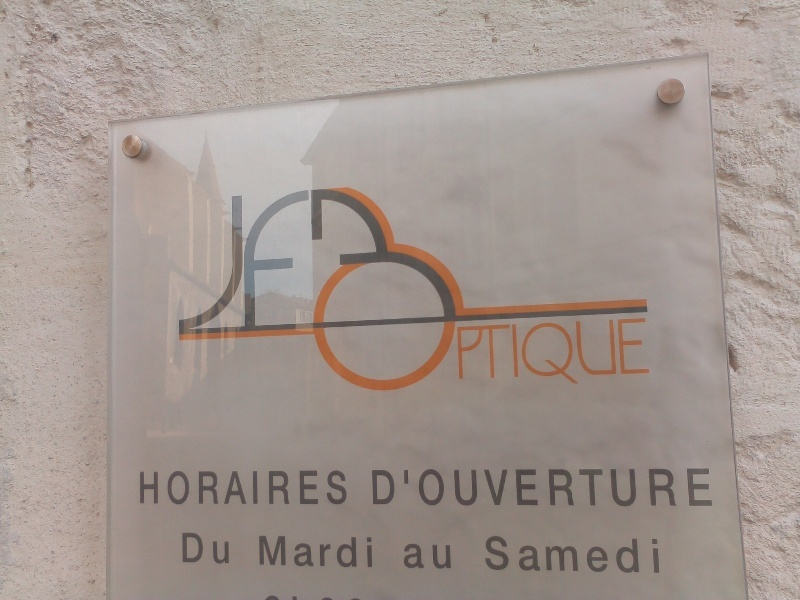text: (177, 189, 192, 331), (193, 189, 208, 331), (209, 189, 224, 331), (225, 189, 240, 331), (241, 189, 256, 331), (257, 189, 272, 331), (273, 189, 288, 331), (289, 189, 304, 331), (465, 317, 480, 388), (481, 317, 496, 388), (497, 317, 512, 388), (513, 317, 528, 388), (529, 317, 544, 388), (545, 317, 560, 388), (561, 317, 576, 388), (577, 317, 592, 388), (593, 317, 608, 388), (609, 317, 624, 388), (625, 317, 640, 388), (641, 317, 653, 388), (305, 189, 311, 331), (385, 468, 400, 507), (401, 468, 416, 507), (417, 468, 432, 507), (433, 468, 448, 507), (449, 468, 464, 507), (465, 468, 480, 507), (481, 468, 496, 507), (497, 468, 512, 507), (513, 468, 528, 507), (529, 468, 544, 507), (545, 468, 560, 507), (561, 468, 576, 507), (577, 468, 592, 507), (593, 468, 608, 507), (609, 468, 624, 507), (625, 468, 640, 507), (641, 468, 656, 507), (657, 468, 672, 507), (673, 468, 688, 507), (689, 468, 704, 507), (497, 535, 512, 574), (513, 535, 528, 574), (529, 535, 544, 574), (545, 535, 560, 574), (561, 535, 576, 574), (577, 535, 592, 574), (593, 535, 608, 574), (609, 535, 624, 574), (625, 535, 640, 574), (641, 535, 656, 574), (145, 469, 160, 507), (161, 469, 176, 507), (177, 469, 192, 507), (193, 469, 208, 507), (209, 469, 224, 507), (225, 469, 240, 507), (241, 469, 256, 507), (257, 469, 272, 507), (273, 469, 288, 507), (289, 469, 304, 507), (305, 469, 320, 507), (321, 469, 336, 507), (457, 317, 464, 388), (193, 532, 208, 565), (209, 532, 224, 565), (273, 535, 288, 568), (289, 535, 304, 568), (305, 535, 320, 568), (321, 535, 336, 568), (337, 535, 352, 568), (353, 535, 368, 568), (337, 469, 350, 507), (372, 468, 384, 507), (484, 535, 496, 574), (258, 535, 272, 568), (417, 543, 432, 570), (433, 543, 448, 570), (705, 468, 714, 507), (182, 532, 192, 565), (404, 543, 416, 570), (138, 469, 144, 507), (225, 532, 231, 565), (657, 535, 662, 574), (369, 535, 374, 568), (449, 543, 452, 570)
